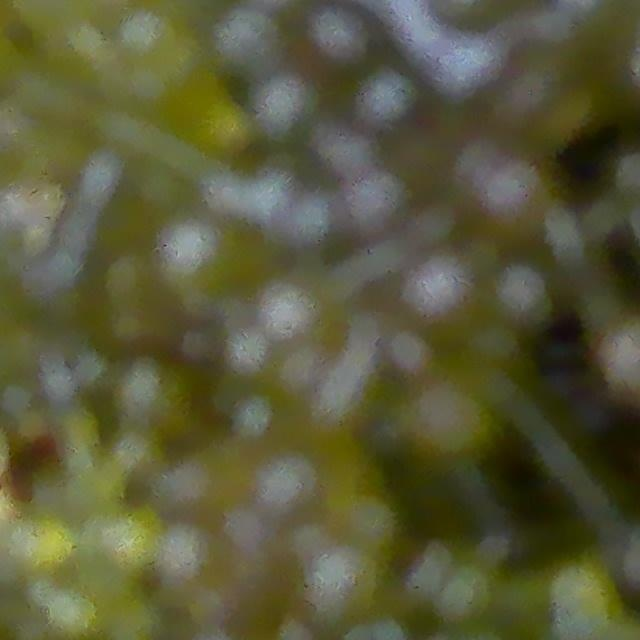SeaGrape: (448, 135, 562, 233), (389, 252, 491, 328), (346, 68, 428, 150), (150, 532, 231, 608), (303, 8, 384, 80), (340, 175, 415, 233)
